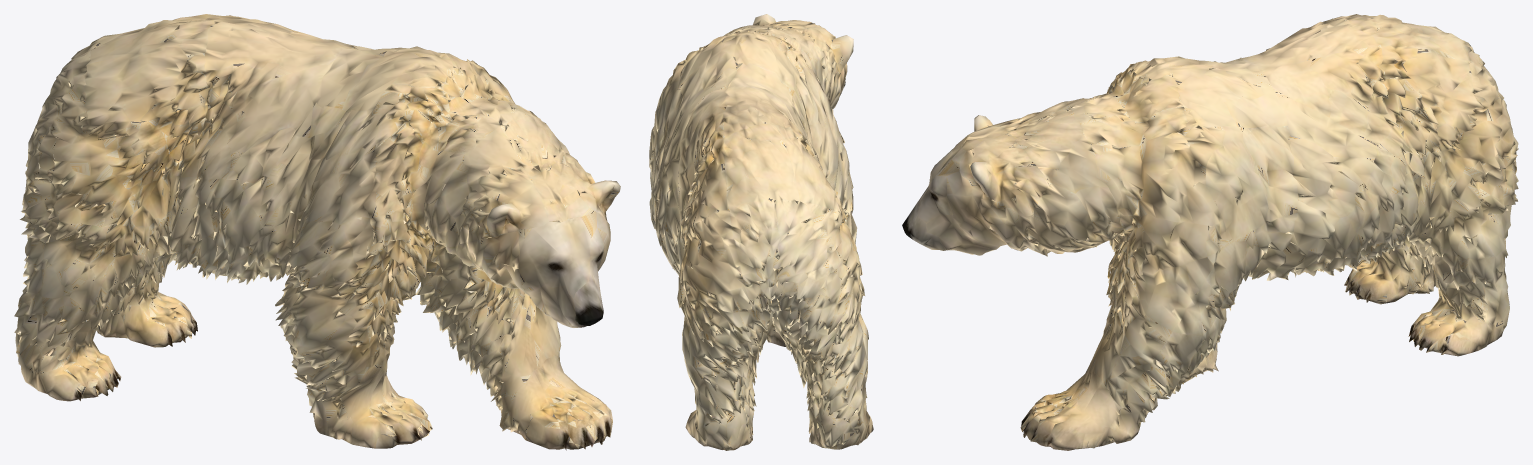
The model's file is polar-bear-mobile.glb.
The picture shows the model from 3 angles, left to right: view 1: azimuth 30°, elevation 25°; view 2: azimuth 150°, elevation 25°; view 3: azimuth 270°, elevation 25°; orthographic projection. The views are drawn at different scales.
Parts seen in each view (by area): view 1: polar-bear; view 2: polar-bear; view 3: polar-bear.
Boxes of the visible parts, x1,y1,x2,y2 form: polar-bear: (14,14,620,450); polar-bear: (649,14,873,450); polar-bear: (902,14,1518,450).
Bounding box in the file's own units: 1.63 × 1.37 × 2.33.
1 material, 1 textured.
